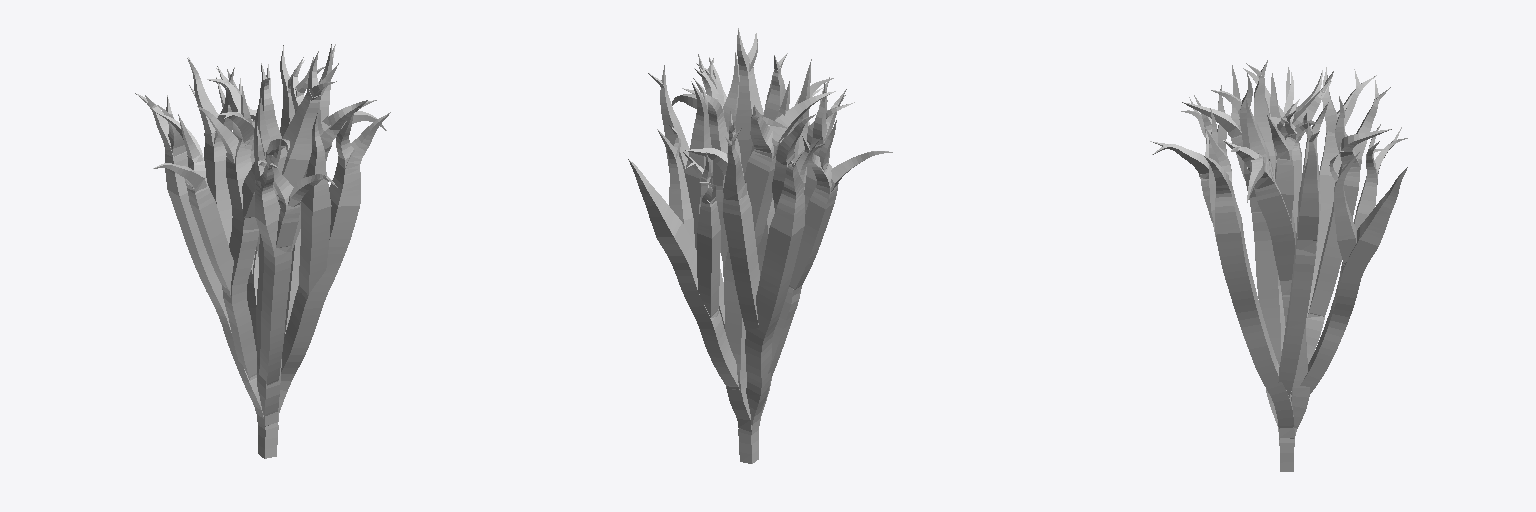
The model's file is bendytree_000007.obj.
The picture shows the model from 3 angles: view 1: azimuth 30°, elevation 25°; view 2: azimuth 150°, elevation 25°; view 3: azimuth 270°, elevation 25°; orthographic projection.
Parts seen in each view (by area): view 1: treemesh_treemesh.001; view 2: treemesh_treemesh.001; view 3: treemesh_treemesh.001.
Boxes of the visible parts, box(x1,y1,x2,y2) form: treemesh_treemesh.001: box(135, 44, 390, 458); treemesh_treemesh.001: box(628, 28, 892, 463); treemesh_treemesh.001: box(1150, 60, 1407, 471).
Size of the model in its own units: 3.81 by 6.51 by 3.74.